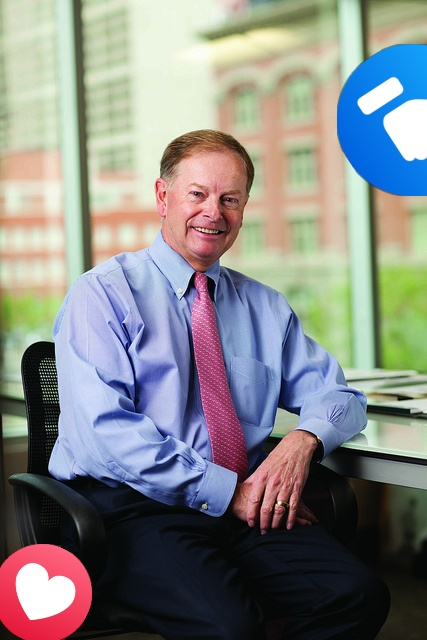like: (337, 44, 427, 196)
love: (0, 544, 92, 640)
